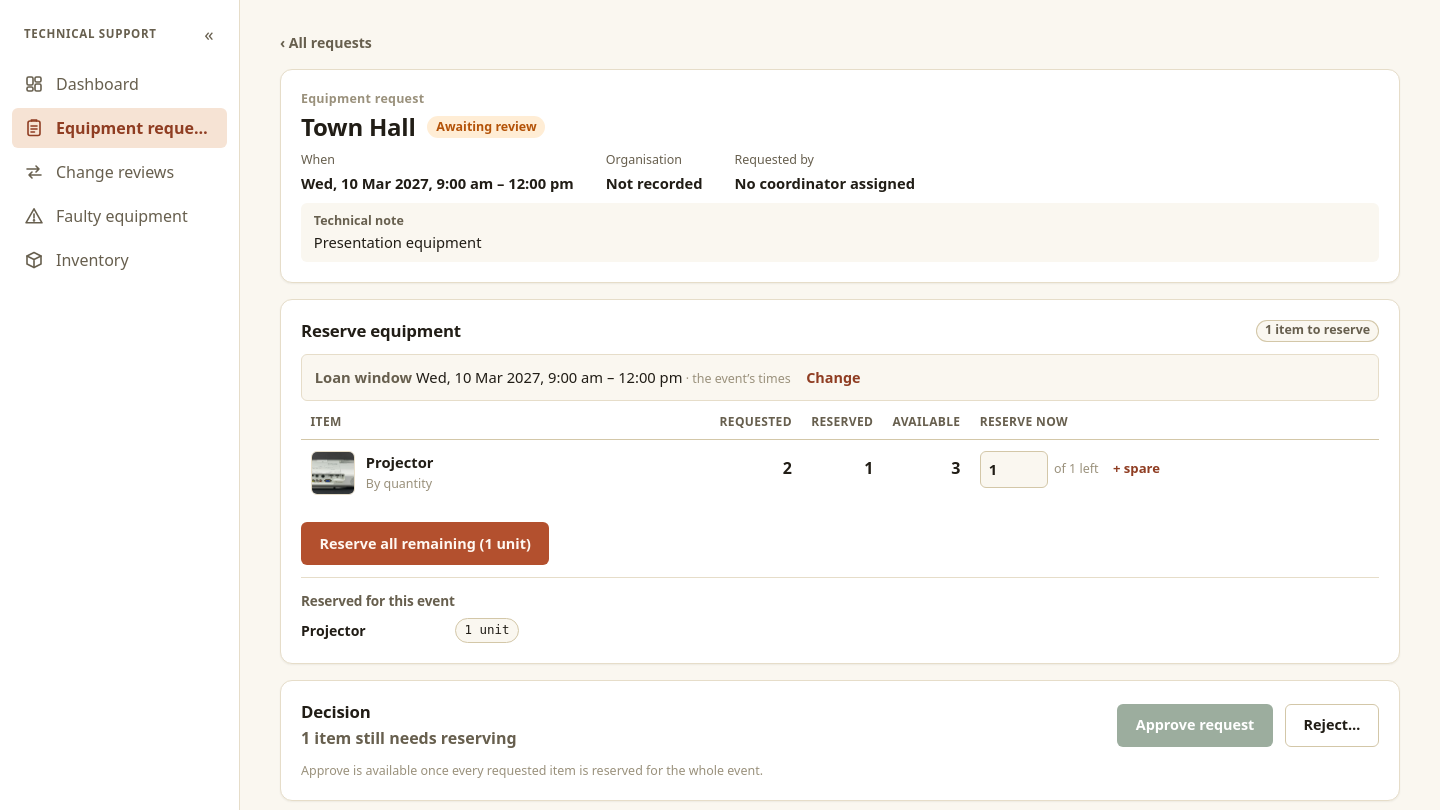
Scenario: Technical Support UI integration › TS06 (failure): shows reservation coverage, keeps the reason when saving a rejection fails, then saves it without changing reservations
expect the heading "Town Hall" is shown: met, box [301,113,416,142]
expect the text "1 item still needs reserving" is shown: met, box [301,726,516,750]
Click the button "Reject…" at (1332, 725), box [1285,704,1379,747]
(page scrolled)
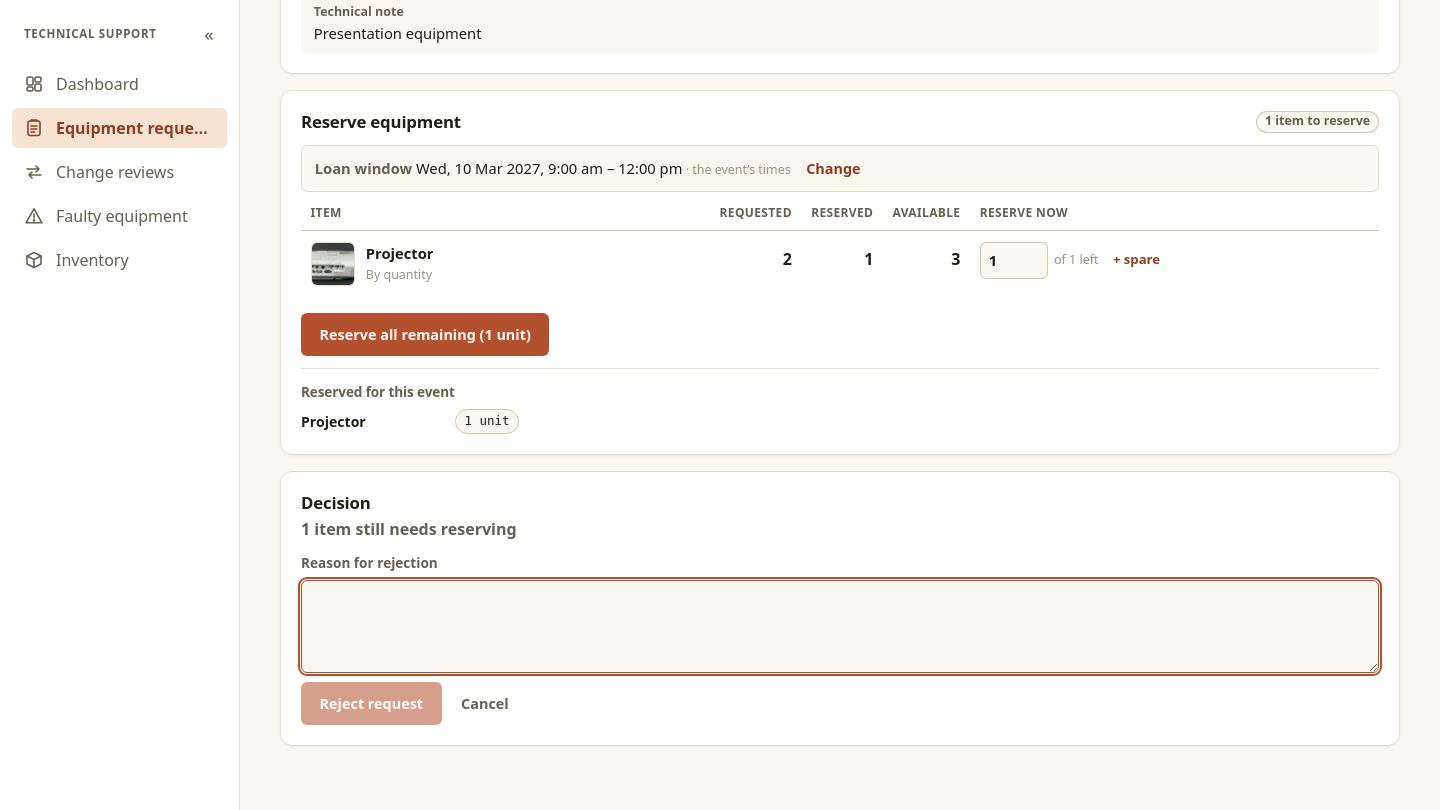
expect the button "Reject request" is disabled: met, box [301,682,442,725]
Type "Only one unit can be provided." into the text box labelled "Reason for rejection" at (840, 626), box [301,580,1379,673]
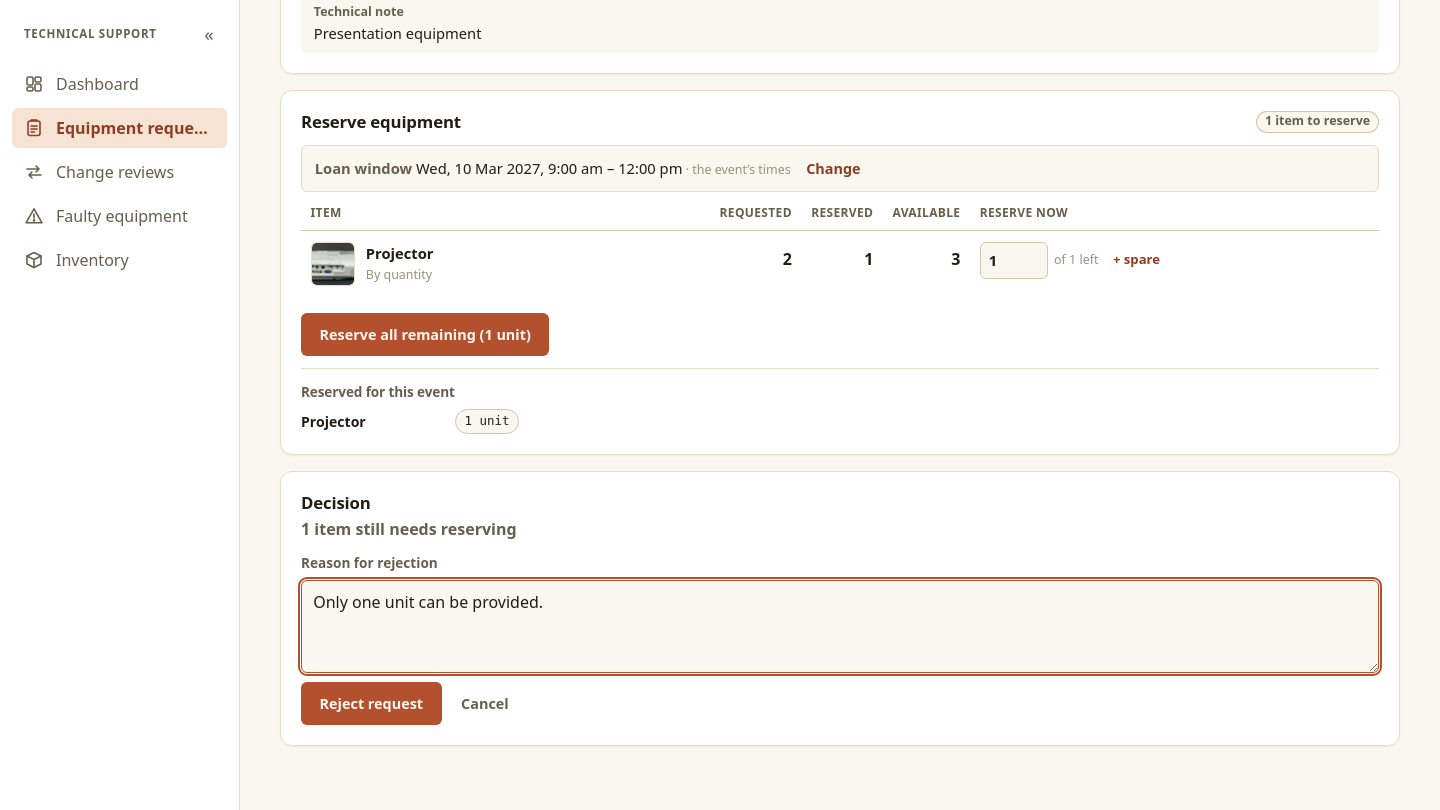
Click the button "Reject request" at (371, 704), box [301,682,442,725]
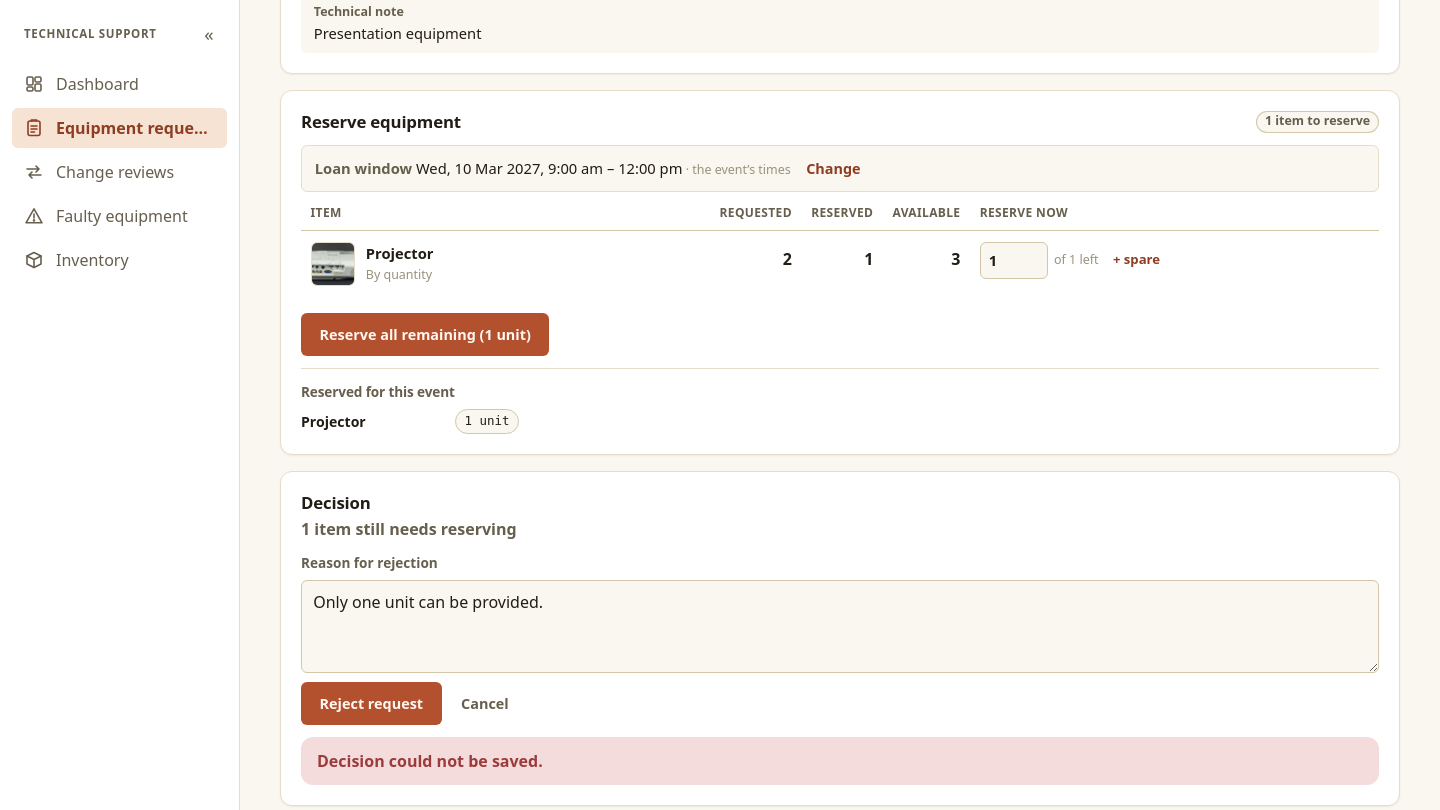
expect the text "This request was rejected." is not shown: met
expect the message reads "Decision could not be saved.": met, box [317,750,543,772]
Click the button "Reject request" at (371, 704), box [301,682,442,725]
(page scrolled)
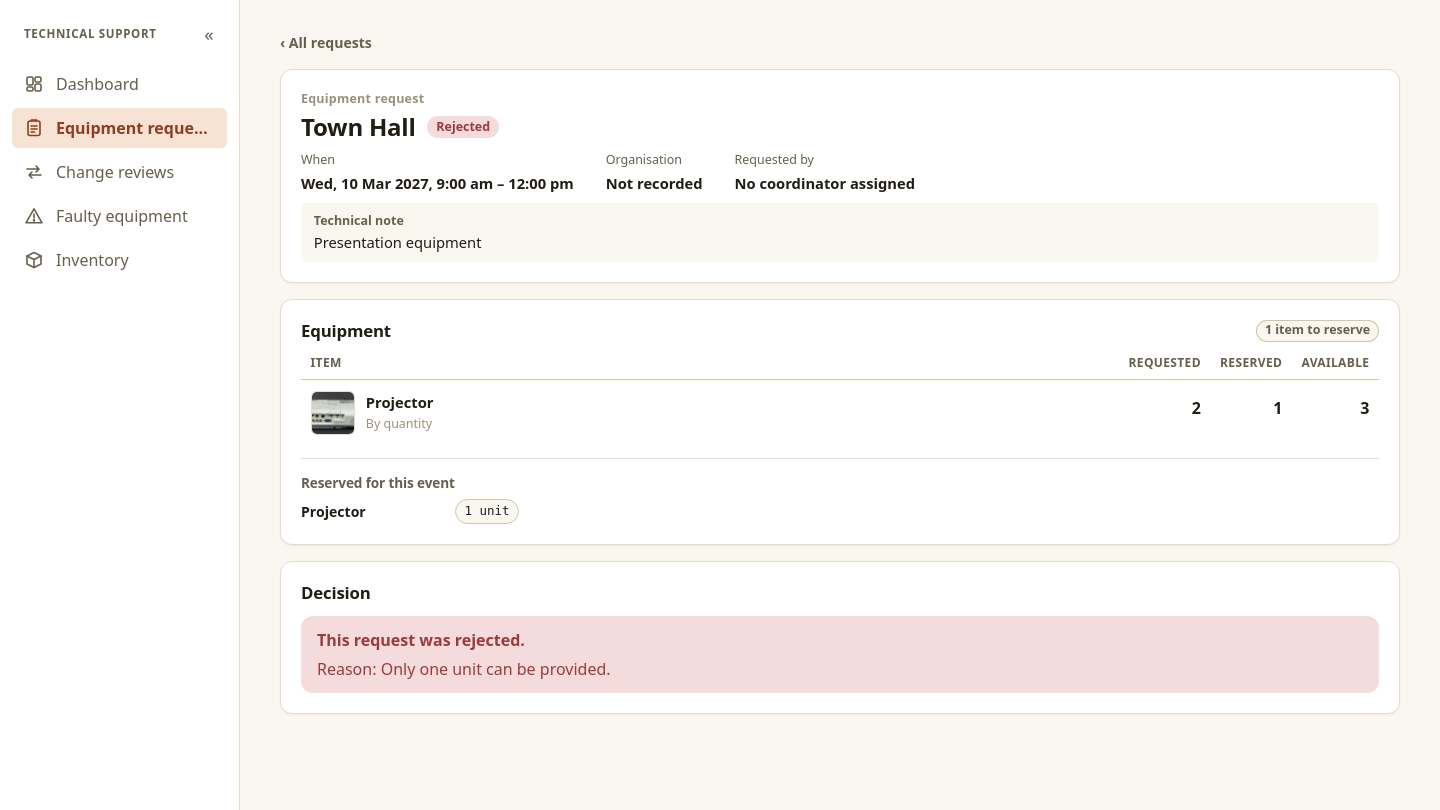
expect the text "This request was rejected." is shown: met, box [317,629,525,651]
expect the text "Reason: Only one unit can be provided." is shown: met, box [317,658,610,680]
expect the text "Rejected" is shown: met, box [428,116,499,138]
